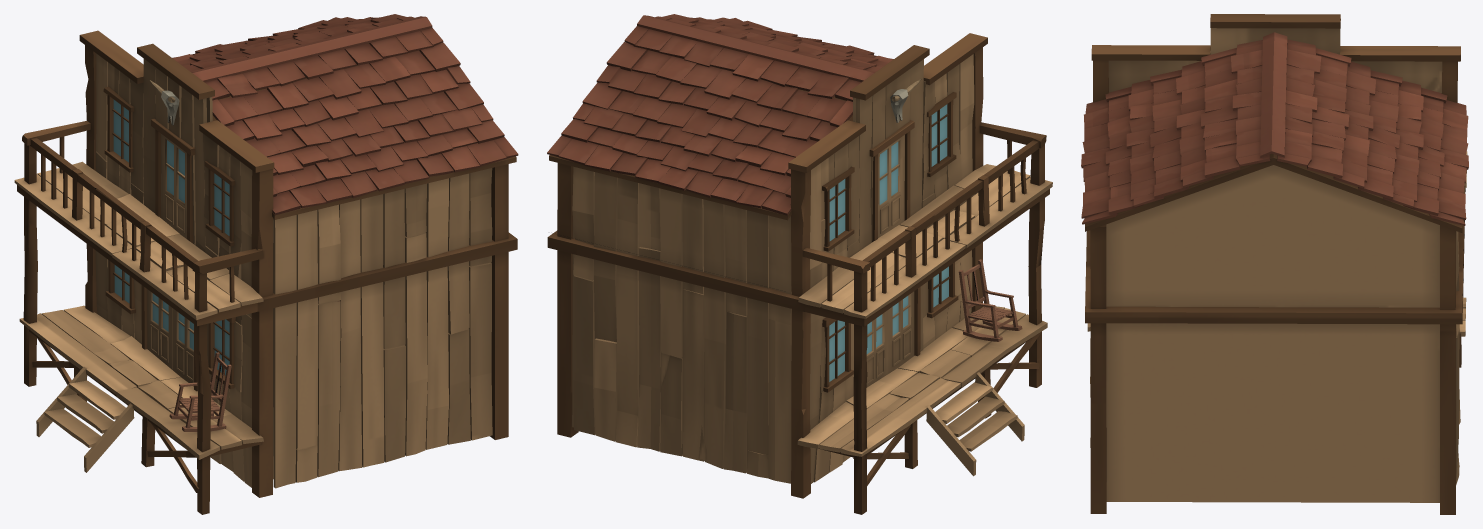
The model's file is saloon.glb.
3 views of the same model, side by side, from view 1: azimuth 30°, elevation 25°; view 2: azimuth 150°, elevation 25°; view 3: azimuth 270°, elevation 25° (orthographic). The views are drawn at different scales.
Visible parts, largest first — view 1: hotel.001_0; view 2: hotel.001_0; view 3: hotel.001_0.
Boxes of the visible parts, left/top/right/bottom form: hotel.001_0: left=14, top=14, right=518, bottom=514; hotel.001_0: left=547, top=14, right=1052, bottom=514; hotel.001_0: left=1081, top=14, right=1468, bottom=514.
Size of the model in its own units: 3.36 by 3.22 by 3.
Materials: 1 (1 with a texture image).
